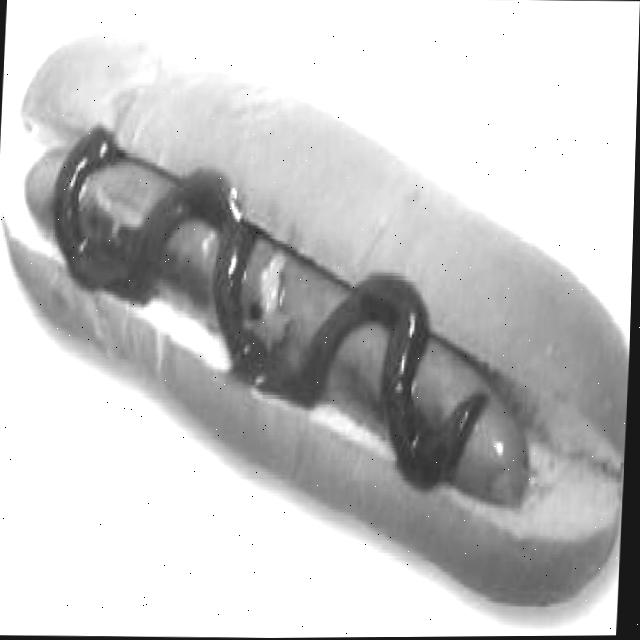汉堡快餐: (0, 30, 635, 599)
